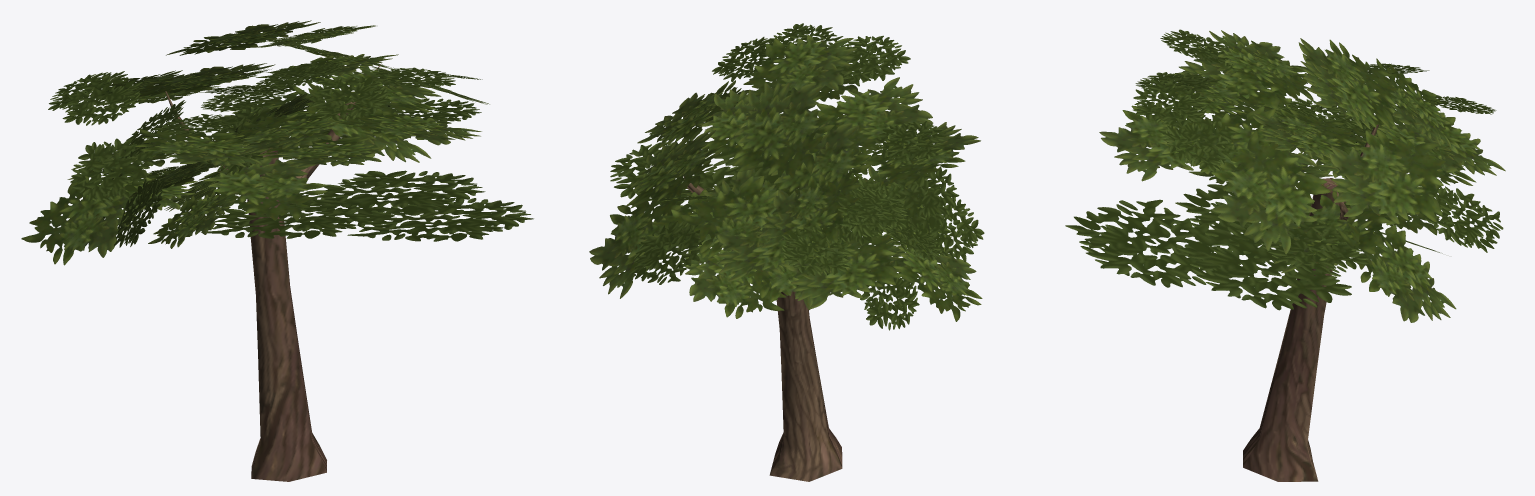
The model's file is Tree_C_1.fbx.
3 renders of one model, left to right at view 1: azimuth 30°, elevation 25°; view 2: azimuth 150°, elevation 25°; view 3: azimuth 270°, elevation 25°, orthographic. The views are drawn at different scales.
Visible parts, largest first — view 1: Tree_C_1_Clone_, Tree_C_Trunk; view 2: Tree_C_1_Clone_, Tree_C_Trunk; view 3: Tree_C_1_Clone_, Tree_C_Trunk.
Boxes of the visible parts, bbox=[...] form: Tree_C_1_Clone_: bbox=[21, 20, 533, 265]; Tree_C_Trunk: bbox=[165, 63, 381, 481]; Tree_C_1_Clone_: bbox=[589, 23, 984, 330]; Tree_C_Trunk: bbox=[672, 142, 842, 481]; Tree_C_1_Clone_: bbox=[1065, 29, 1505, 322]; Tree_C_Trunk: bbox=[1243, 124, 1378, 481].
Bounding box in the file's own units: 1.24 × 1.24 × 1.25.
2 materials, 2 textured.
